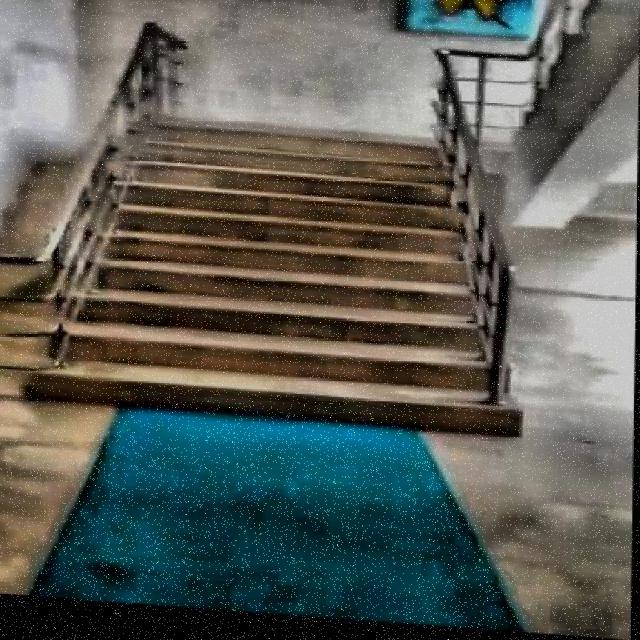stair: (31, 126, 491, 437)
